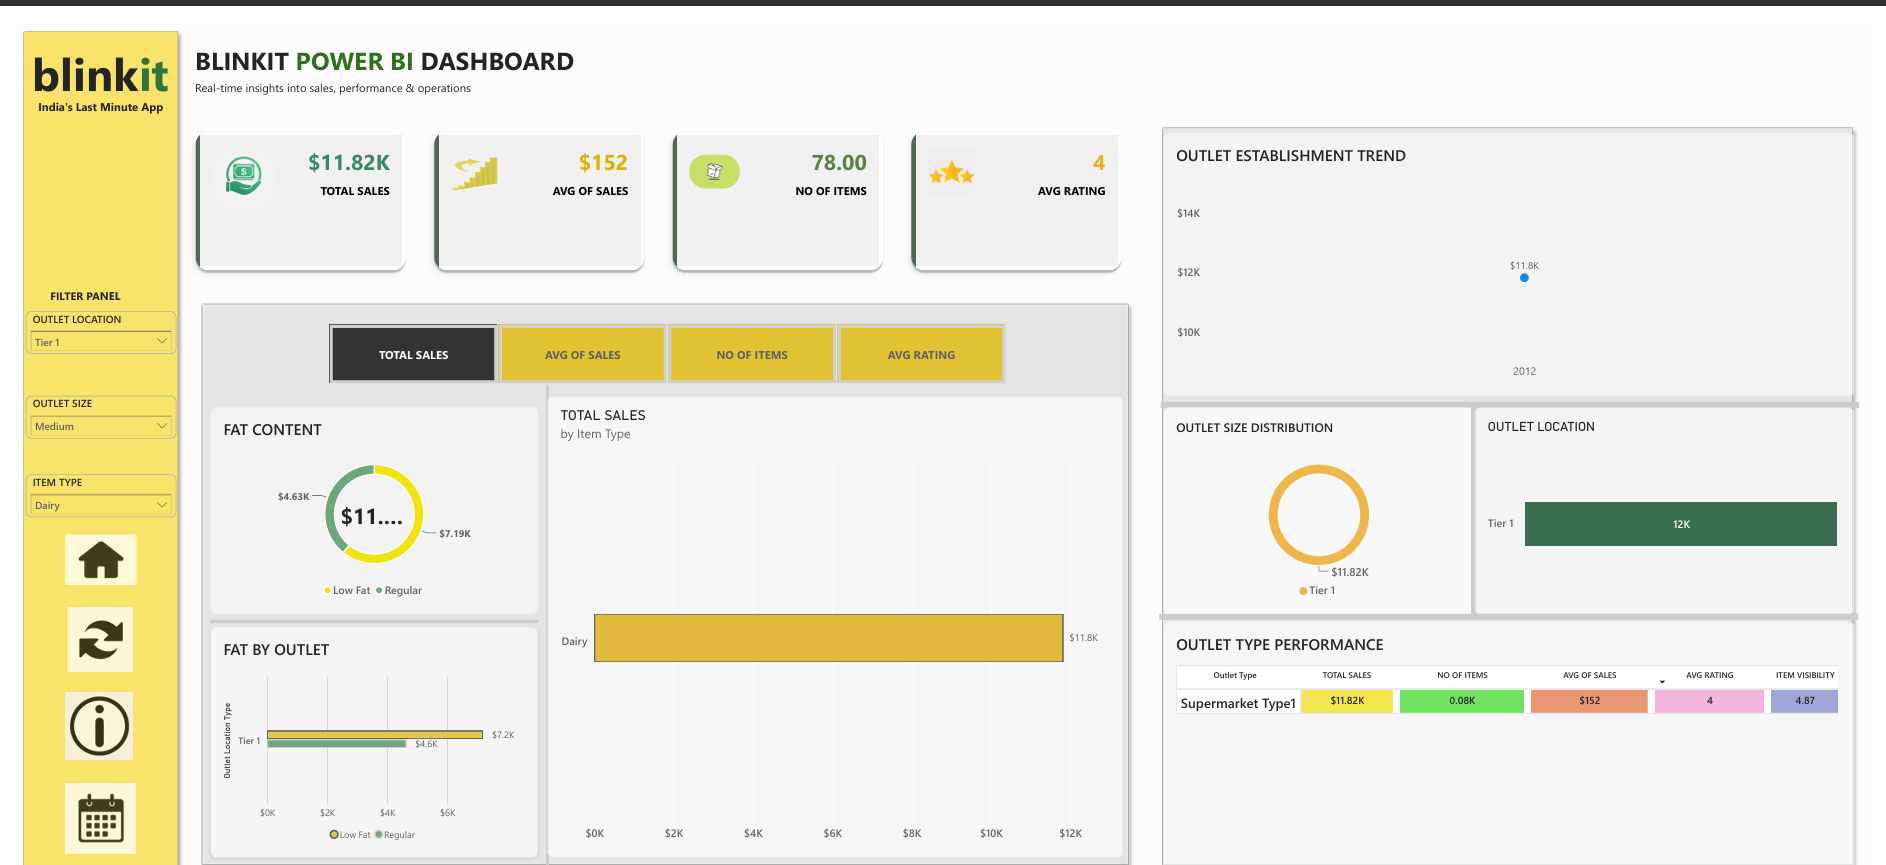

This screenshot's page, from the dashboard's own definition file:
{"tool":"powerbi","page":{"name":"Page 1","canvas":[2412,1100],"ordinal":0},"visuals":[{"type":"shape","box":[0,0,218.6,1600],"z":0},{"type":"textbox","box":[452.5,507.5,410,177.5],"z":1},{"type":"textbox","box":[0,24.3,218.6,164.3],"z":2},{"type":"textbox","box":[276.5,686,253,914],"z":3},{"type":"textbox","box":[0,95.7,218.6,21.4],"z":4},{"type":"cardVisual","fields":{"Data":["BlinkIT Grocery Data.TOTAL SALES","BlinkIT Grocery Data.AVG OF SALES","BlinkIT Grocery Data.NO OF ITEMS","BlinkIT Grocery Data.AVG RATING"]},"box":[218,124,1236,210],"z":5},{"type":"shape","box":[232,354,1222,746],"z":6},{"type":"donutChart","title":"FAT CONTENT","fields":{"Category":["BlinkIT Grocery Data.Item Fat Content"],"Y":["BlinkIT Grocery Data.TOTAL SALES"]},"box":[252,496,426,270],"z":7},{"type":"slicer","fields":{"Values":["Metrics.Metrics"]},"box":[386,388,918,80],"z":8},{"type":"clusteredBarChart","title":"FAT BY OUTLET","fields":{"Category":["BlinkIT Grocery Data.Outlet Location Type"],"Series":["BlinkIT Grocery Data.Item Fat Content"],"Y":["BlinkIT Grocery Data.TOTAL SALES"]},"box":[252,782,426,300],"z":9},{"type":"shape","box":[252,694,426,162],"z":10},{"type":"shape","box":[232,468,916,632],"z":11},{"type":"barChart","fields":{"Category":["BlinkIT Grocery Data.Item Type"],"Y":["BlinkIT Grocery Data.TOTAL SALES"]},"box":[690,482,748,600],"z":12},{"type":"shape","box":[1480,125,915,975],"z":13},{"type":"lineChart","title":"OUTLET ESTABLISHMENT TREND","fields":{"Category":["BlinkIT Grocery Data.Outlet Establishment Year"],"Y":["BlinkIT Grocery Data.TOTAL SALES"]},"box":[1490,140,898.3,343.3],"z":14},{"type":"shape","box":[1486.7,410,907.5,167.5],"z":15},{"type":"donutChart","title":"OUTLET SIZE DISTRIBUTION","fields":{"Category":["BlinkIT Grocery Data.Outlet Location Type"],"Y":["BlinkIT Grocery Data.TOTAL SALES"]},"box":[1490,496.7,405,270],"z":16},{"type":"shape","box":[1418.3,495,951.7,271.7],"z":17},{"type":"funnel","title":"OUTLET LOCATION","fields":{"Category":["BlinkIT Grocery Data.Outlet Location Type"],"Y":["Sum(BlinkIT Grocery Data.Sales)"]},"box":[1895,496.7,493.3,270],"z":18},{"type":"shape","box":[1485,685,907.5,167.5],"z":19},{"type":"pivotTable","title":"OUTLET TYPE PERFORMANCE","fields":{"Rows":["BlinkIT Grocery Data.Outlet Type"],"Values":["BlinkIT Grocery Data.TOTAL SALES","BlinkIT Grocery Data.NO OF ITEMS","BlinkIT Grocery Data.AVG OF SALES","BlinkIT Grocery Data.AVG RATING","Sum(BlinkIT Grocery Data.Item Visibility)"]},"box":[1490,775,898.3,325],"z":20},{"type":"slicer","fields":{"Values":["BlinkIT Grocery Data.Outlet Location Type"]},"box":[12,372,196,56],"z":21},{"type":"slicer","fields":{"Values":["BlinkIT Grocery Data.Outlet Size"]},"box":[12,482,196,56],"z":22},{"type":"slicer","fields":{"Values":["BlinkIT Grocery Data.Item Type"]},"box":[12,584,196,56],"z":23},{"type":"textbox","box":[44,342,188,208],"z":24},{"type":"image","box":[64,662,92,66],"z":25},{"type":"textbox","box":[232,24,611,72],"z":26},{"type":"textbox","box":[232,72,493,300],"z":27},{"type":"image","box":[68,744,84,110],"z":28},{"type":"image","box":[64,826,88,170],"z":29},{"type":"image","box":[64,982,92,100],"z":30}]}

Visuals, with their boxes in screenshot pixels (x1, y1, x2, y2), scaled from the page's 2412x1100 canvas onto the 1886x865 screenshot:
shape: {"left": 0, "top": 0, "right": 171, "bottom": 864}
textbox: {"left": 354, "top": 399, "right": 674, "bottom": 539}
textbox: {"left": 0, "top": 19, "right": 171, "bottom": 148}
textbox: {"left": 216, "top": 539, "right": 414, "bottom": 864}
textbox: {"left": 0, "top": 75, "right": 171, "bottom": 92}
cardVisual - BlinkIT Grocery Data.TOTAL SALES x BlinkIT Grocery Data.AVG OF SALES: {"left": 170, "top": 98, "right": 1137, "bottom": 263}
shape: {"left": 181, "top": 278, "right": 1137, "bottom": 864}
"FAT CONTENT" donutChart: {"left": 197, "top": 390, "right": 530, "bottom": 602}
slicer - Metrics.Metrics: {"left": 302, "top": 305, "right": 1020, "bottom": 368}
"FAT BY OUTLET" clusteredBarChart: {"left": 197, "top": 615, "right": 530, "bottom": 851}
shape: {"left": 197, "top": 546, "right": 530, "bottom": 673}
shape: {"left": 181, "top": 368, "right": 898, "bottom": 864}
barChart - BlinkIT Grocery Data.Item Type x BlinkIT Grocery Data.TOTAL SALES: {"left": 540, "top": 379, "right": 1124, "bottom": 851}
shape: {"left": 1157, "top": 98, "right": 1873, "bottom": 864}
"OUTLET ESTABLISHMENT TREND" lineChart: {"left": 1165, "top": 110, "right": 1867, "bottom": 380}
shape: {"left": 1162, "top": 322, "right": 1872, "bottom": 454}
"OUTLET SIZE DISTRIBUTION" donutChart: {"left": 1165, "top": 391, "right": 1482, "bottom": 603}
shape: {"left": 1109, "top": 389, "right": 1853, "bottom": 603}
"OUTLET LOCATION" funnel: {"left": 1482, "top": 391, "right": 1867, "bottom": 603}
shape: {"left": 1161, "top": 539, "right": 1871, "bottom": 670}
"OUTLET TYPE PERFORMANCE" pivotTable: {"left": 1165, "top": 609, "right": 1867, "bottom": 864}
slicer - BlinkIT Grocery Data.Outlet Location Type: {"left": 9, "top": 293, "right": 163, "bottom": 337}
slicer - BlinkIT Grocery Data.Outlet Size: {"left": 9, "top": 379, "right": 163, "bottom": 423}
slicer - BlinkIT Grocery Data.Item Type: {"left": 9, "top": 459, "right": 163, "bottom": 503}
textbox: {"left": 34, "top": 269, "right": 181, "bottom": 432}
image: {"left": 50, "top": 521, "right": 122, "bottom": 572}
textbox: {"left": 181, "top": 19, "right": 659, "bottom": 75}
textbox: {"left": 181, "top": 57, "right": 567, "bottom": 293}
image: {"left": 53, "top": 585, "right": 119, "bottom": 672}
image: {"left": 50, "top": 650, "right": 119, "bottom": 783}
image: {"left": 50, "top": 772, "right": 122, "bottom": 851}
